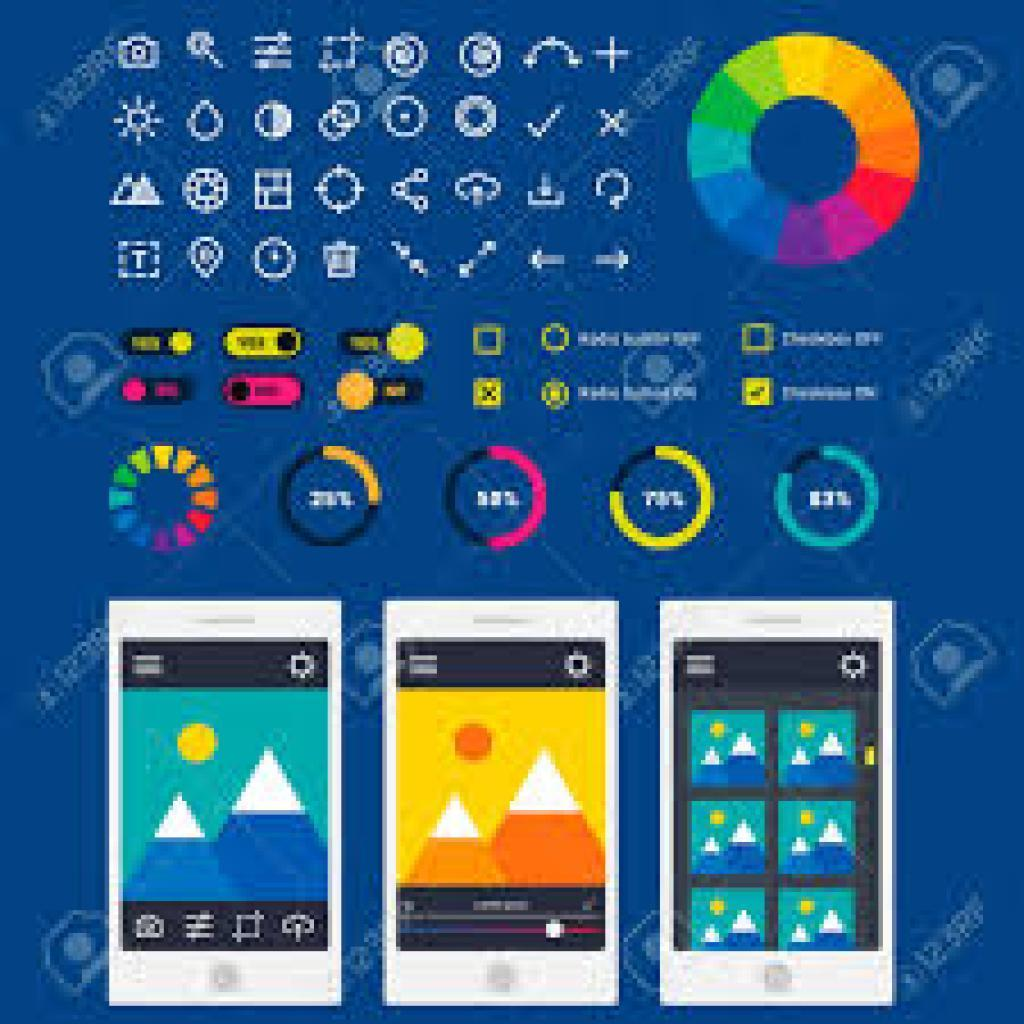checkbox: (742, 324, 776, 355), (743, 378, 776, 408), (474, 327, 506, 357), (474, 377, 503, 410)
icon: (315, 162, 369, 217), (114, 95, 165, 147), (182, 167, 234, 218), (520, 37, 584, 76), (114, 238, 166, 286), (456, 32, 507, 80), (252, 235, 300, 284), (318, 235, 365, 285), (388, 232, 434, 283), (114, 168, 166, 213), (383, 33, 430, 81), (390, 164, 433, 216), (385, 95, 430, 143), (590, 164, 634, 213), (455, 94, 500, 141), (253, 95, 296, 144), (255, 165, 296, 216), (318, 28, 364, 73), (115, 32, 164, 74), (454, 170, 503, 211), (591, 242, 640, 283), (251, 32, 296, 76), (318, 100, 364, 143), (188, 234, 226, 285), (184, 30, 228, 73), (524, 242, 570, 283), (188, 96, 226, 145), (460, 237, 502, 281), (525, 170, 567, 212), (527, 101, 568, 143), (593, 37, 634, 75), (595, 102, 634, 139)
label: (579, 328, 705, 350), (579, 383, 700, 404), (782, 328, 886, 351), (780, 384, 880, 404)
radio: (541, 378, 571, 414), (541, 324, 570, 356)
switch: (338, 323, 427, 366), (337, 372, 427, 413), (223, 372, 304, 411), (221, 325, 304, 362), (121, 374, 197, 409), (119, 330, 198, 359)
